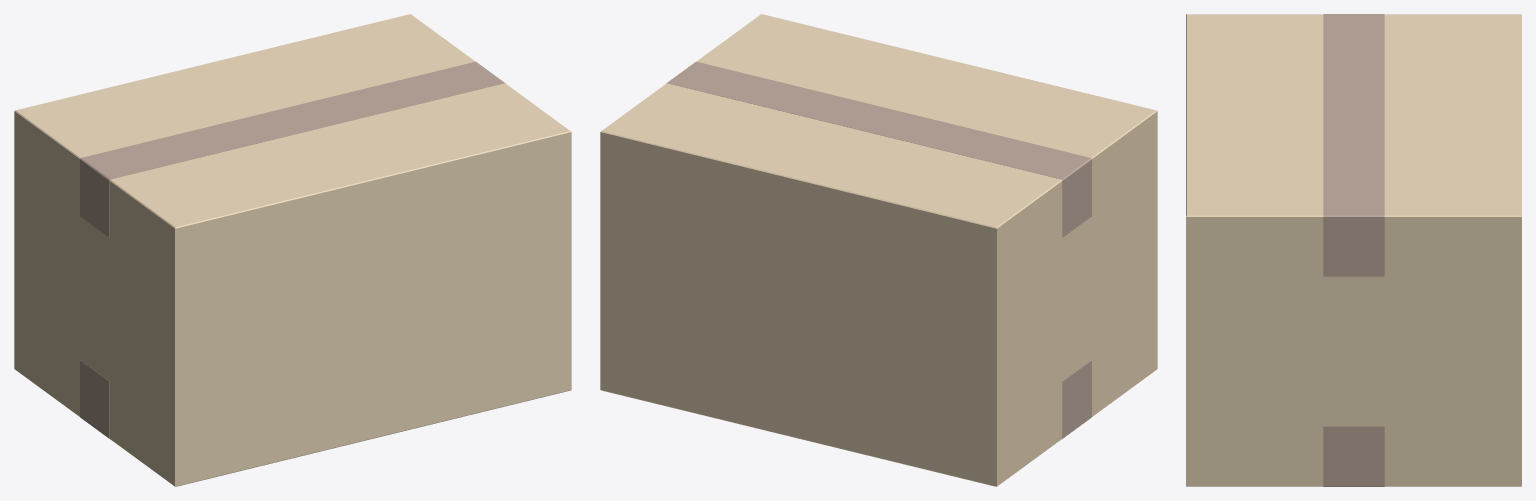
The model's file is Cardboard.gltf.
The picture shows the model from 3 angles, left to right: view 1: azimuth 30°, elevation 25°; view 2: azimuth 150°, elevation 25°; view 3: azimuth 270°, elevation 25°; orthographic projection. The views are drawn at different scales.
Parts seen in each view (by area): view 1: Body; view 2: Body; view 3: Body.
Boxes of the visible parts, x1,y1,x2,y2 form: Body: [14, 14, 571, 486]; Body: [600, 14, 1157, 486]; Body: [1186, 14, 1521, 486].
Bounding box in the file's own units: 0.1176 × 0.0736 × 0.0825.
